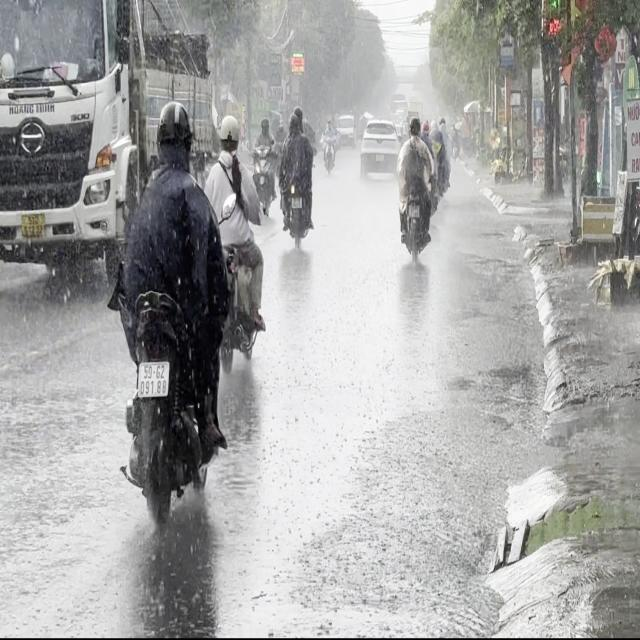helmet: (155, 98, 191, 166), (218, 112, 240, 150)
licenseplate: (108, 95, 230, 538), (203, 109, 267, 377)
nohelmet: (137, 362, 168, 396)
